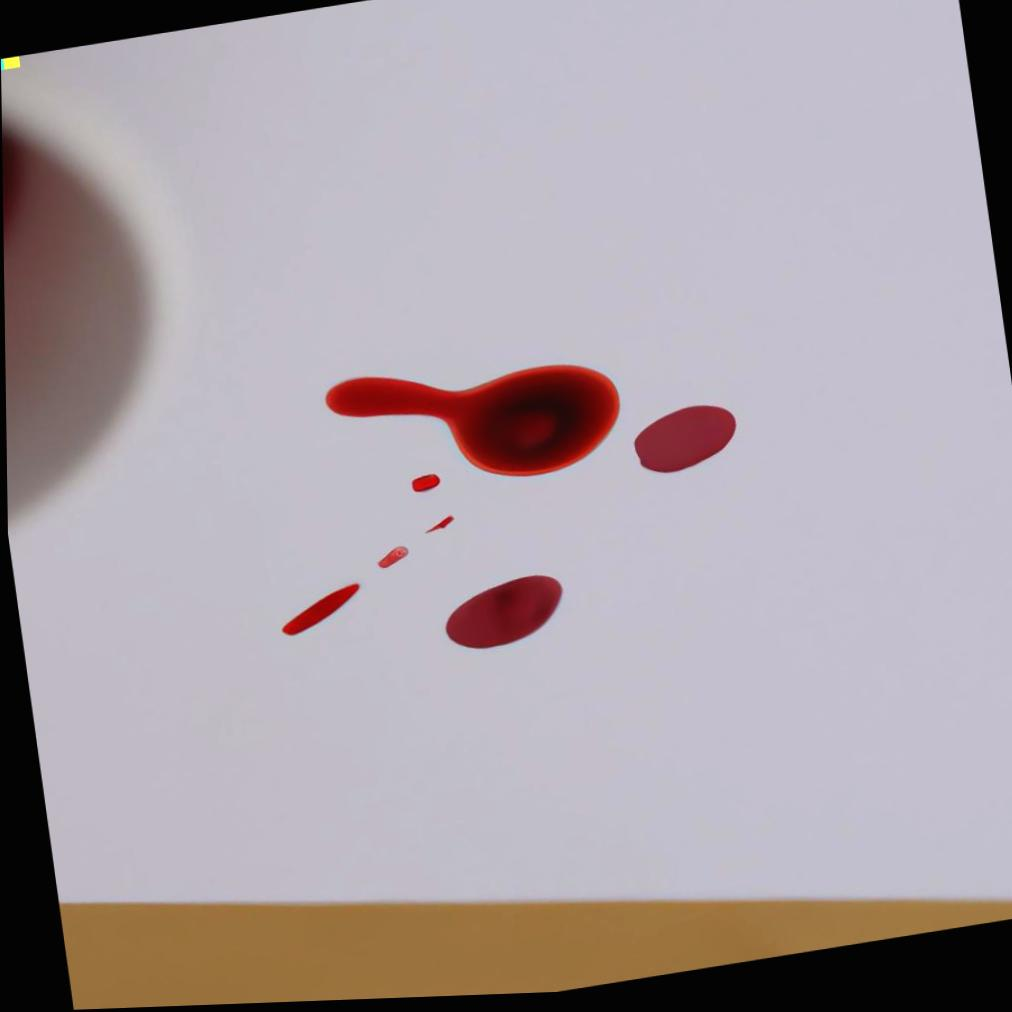Fire: (324, 369, 619, 480), (444, 579, 560, 653), (632, 411, 736, 478), (279, 586, 358, 638), (410, 477, 439, 495)
